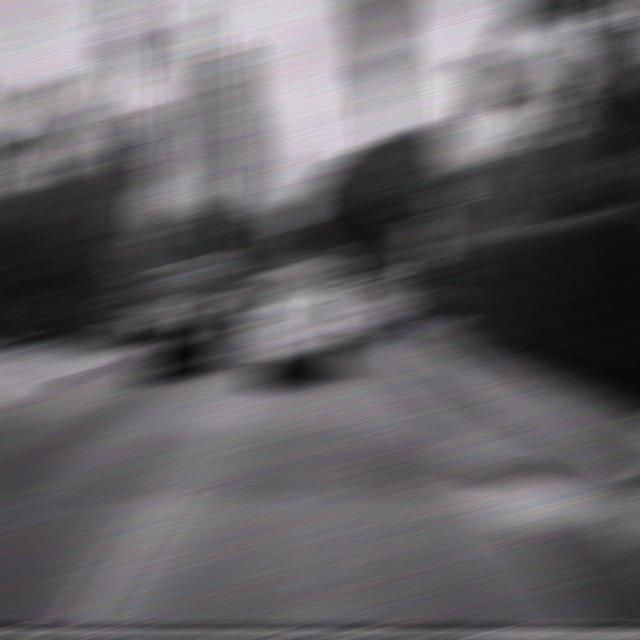stop_sign: (407, 215, 444, 242)
